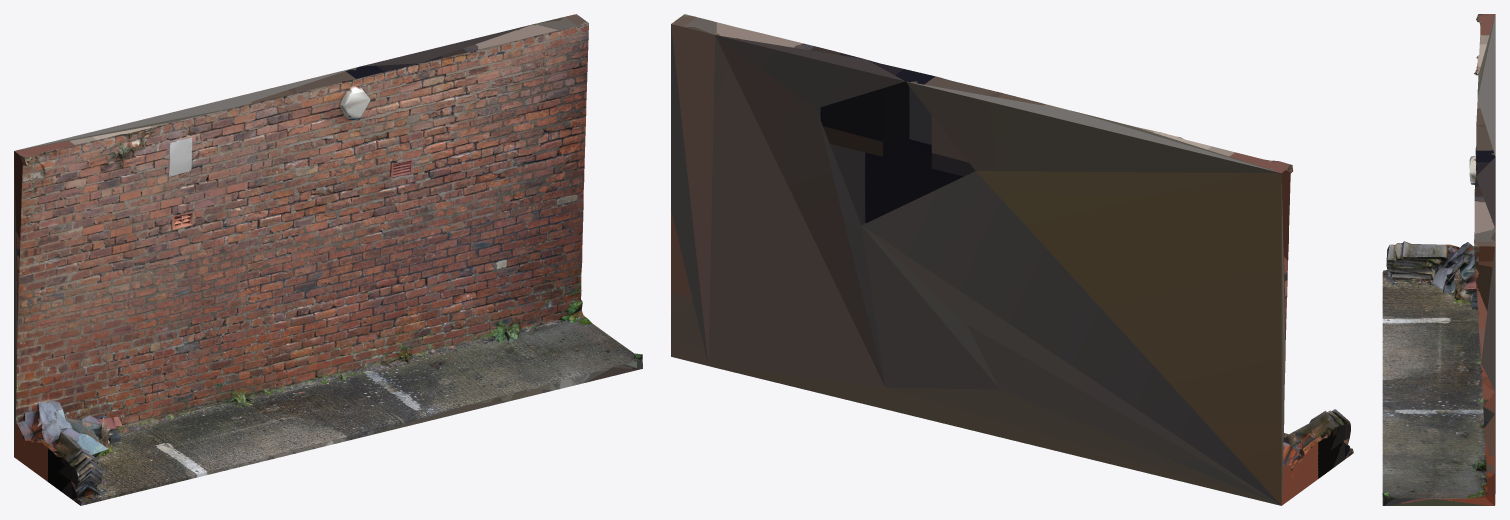
File: cracked_red_brick_wall_low_poly_high_detail.glb
The picture shows the model from 3 angles, left to right: view 1: azimuth 30°, elevation 25°; view 2: azimuth 150°, elevation 25°; view 3: azimuth 270°, elevation 25°; orthographic projection. The views are drawn at different scales.
Visible parts, largest first — view 1: Wall_6; view 2: Wall_6; view 3: Wall_6.
Part boxes in pixels (left/top/right/bottom): Wall_6: left=14, top=14, right=642, bottom=505; Wall_6: left=671, top=14, right=1353, bottom=505; Wall_6: left=1382, top=14, right=1495, bottom=505.
Bounding box in the file's own units: 37.48 × 19.51 × 7.71.
Materials: 1 (1 with a texture image).
